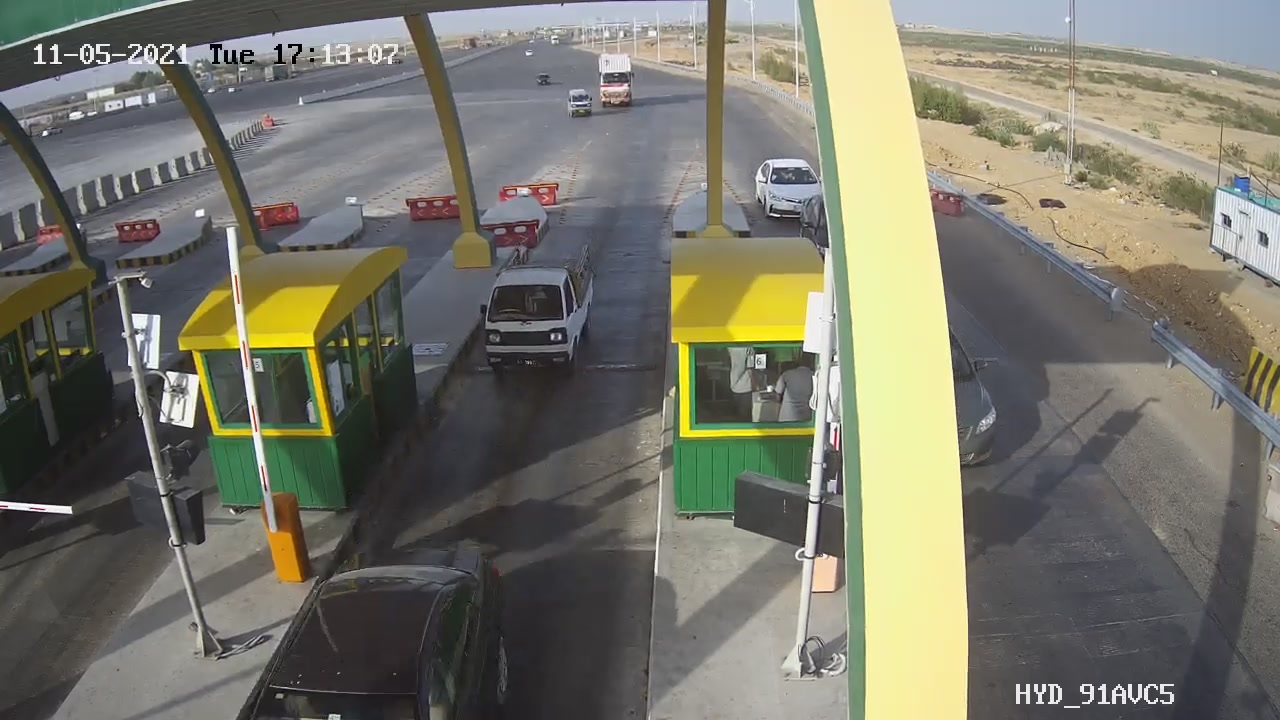F1: (465, 229, 616, 388)
